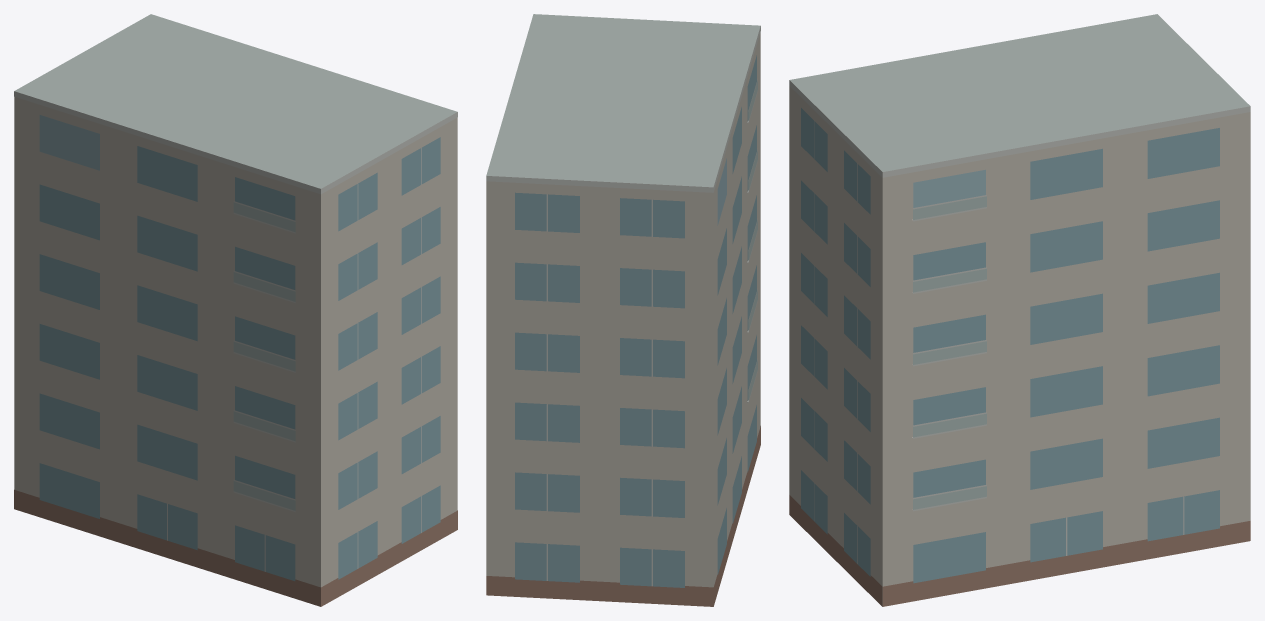
Rendered from survey-upis-32757883.glb.
3 renders of one model, left to right at view 1: azimuth 30°, elevation 25°; view 2: azimuth 150°, elevation 25°; view 3: azimuth 270°, elevation 25°, orthographic. The views are drawn at different scales.
Parts seen in each view (by area): view 1: survey-upis-32757883.tmp; view 2: survey-upis-32757883.tmp; view 3: survey-upis-32757883.tmp.
Part boxes in pixels (left/top/right/bottom): survey-upis-32757883.tmp: left=14, top=14, right=457, bottom=606; survey-upis-32757883.tmp: left=486, top=14, right=760, bottom=606; survey-upis-32757883.tmp: left=789, top=14, right=1250, bottom=606.
Size of the model in its own units: 14.52 by 18.6 by 17.9.
